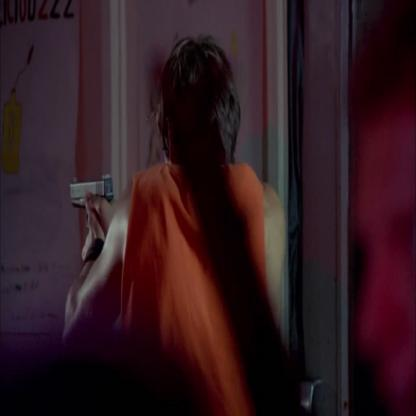gun: (61, 164, 115, 236)
